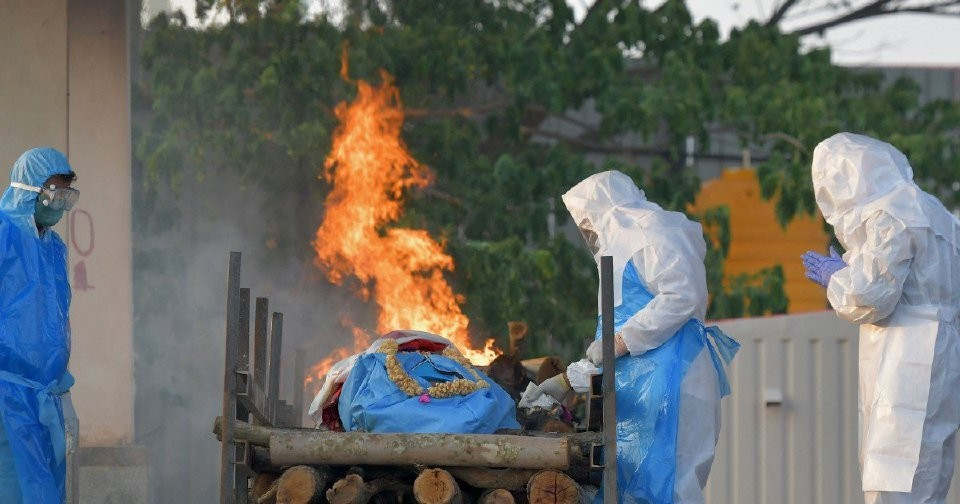Coverall: (558, 166, 727, 504), (809, 131, 960, 504), (1, 145, 83, 504)
Face_Shield: (573, 211, 608, 261)
Gloves: (799, 241, 851, 288), (520, 372, 572, 413), (56, 391, 85, 458), (584, 333, 631, 368)
Goggles: (8, 177, 81, 217)
with_mask: (37, 188, 65, 232)
